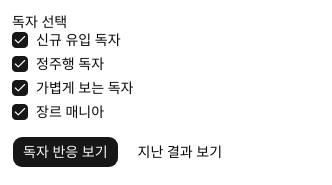
it: ReaderPanel › runs the reader simulation through its route with the chosen personas
The image size is (332, 185).
Click the button "독자 반응 보기" at (65, 152), box [12,136,119,168]
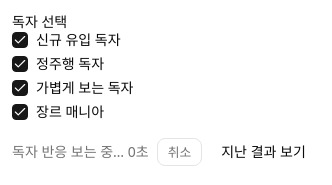
Expected: the text "독자 반응 보는 중… 0초" is shown, [12,142,149,162]
Expected: the button "취소" is shown, [157,138,202,166]
